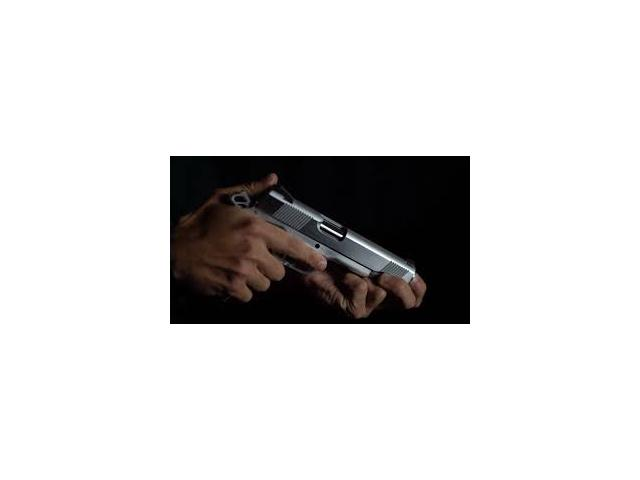pistol: (226, 183, 424, 308)
